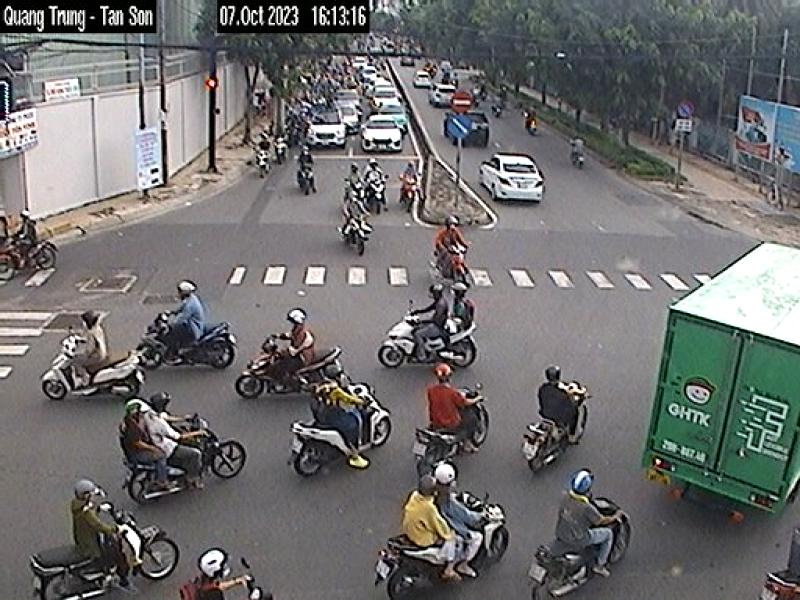car: (480, 152, 545, 203), (309, 107, 348, 149), (361, 113, 403, 152), (446, 108, 490, 144)
motorcycle: (373, 490, 511, 600), (28, 508, 180, 600), (524, 496, 632, 600), (120, 418, 248, 504), (288, 385, 392, 477), (40, 326, 147, 402), (378, 300, 479, 371), (410, 384, 489, 474), (235, 336, 347, 396), (136, 310, 238, 371), (524, 379, 588, 472), (0, 243, 58, 282), (234, 558, 275, 600), (340, 212, 375, 256), (436, 244, 470, 284)
truck: (643, 239, 800, 523)
